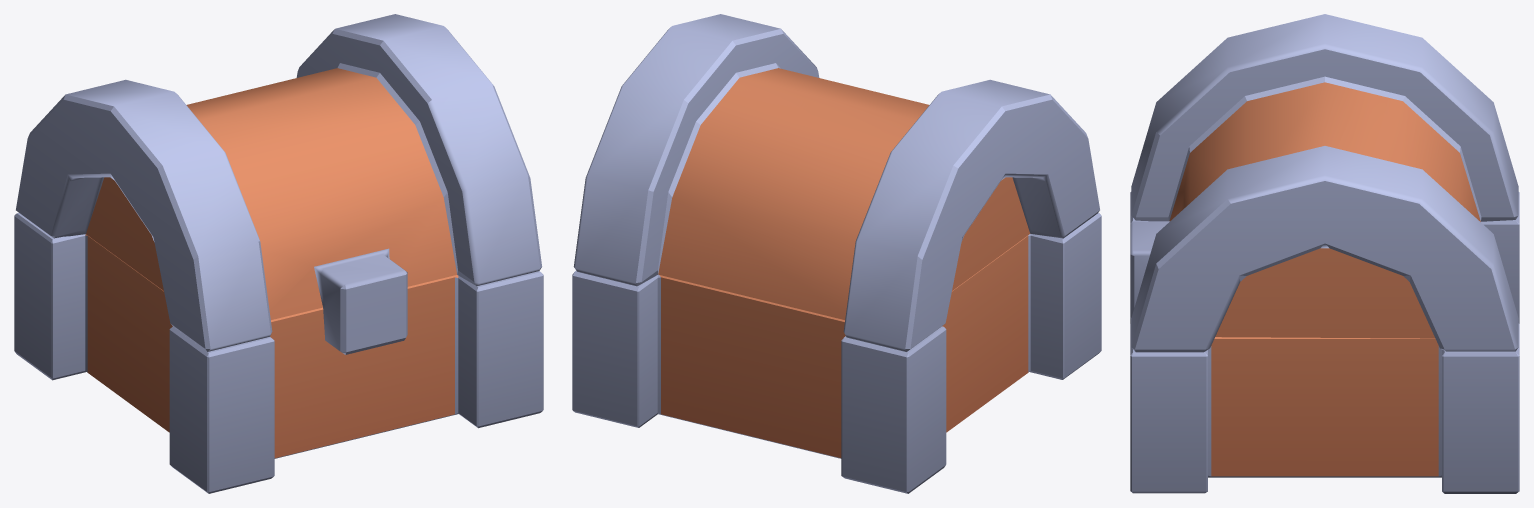
File: kenney-platformer__chest.glb
3 views of the same model, side by side, from view 1: azimuth 30°, elevation 25°; view 2: azimuth 150°, elevation 25°; view 3: azimuth 270°, elevation 25° (orthographic).
Visible parts, largest first — view 1: lid, chest; view 2: lid, chest; view 3: lid, chest.
Part boxes in pixels (left/top/right/bottom): lid: left=16, top=14, right=542, bottom=354; chest: left=14, top=213, right=543, bottom=493; lid: left=573, top=14, right=1099, bottom=351; chest: left=572, top=212, right=1101, bottom=493; lid: left=1130, top=14, right=1518, bottom=352; chest: left=1130, top=192, right=1519, bottom=493.
Size of the model in its own units: 0.5 by 0.45 by 0.5.
1 material, 1 textured.
